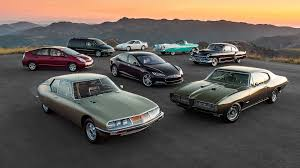car: (33, 73, 164, 145), (169, 63, 290, 126), (112, 54, 186, 87), (22, 45, 95, 69), (199, 43, 247, 66), (66, 38, 115, 54), (157, 37, 198, 52), (118, 38, 148, 51)
